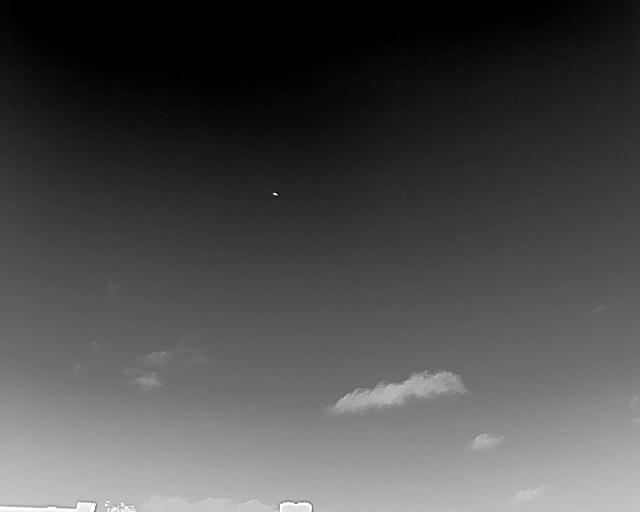fpv-drone: (272, 192, 279, 197)
